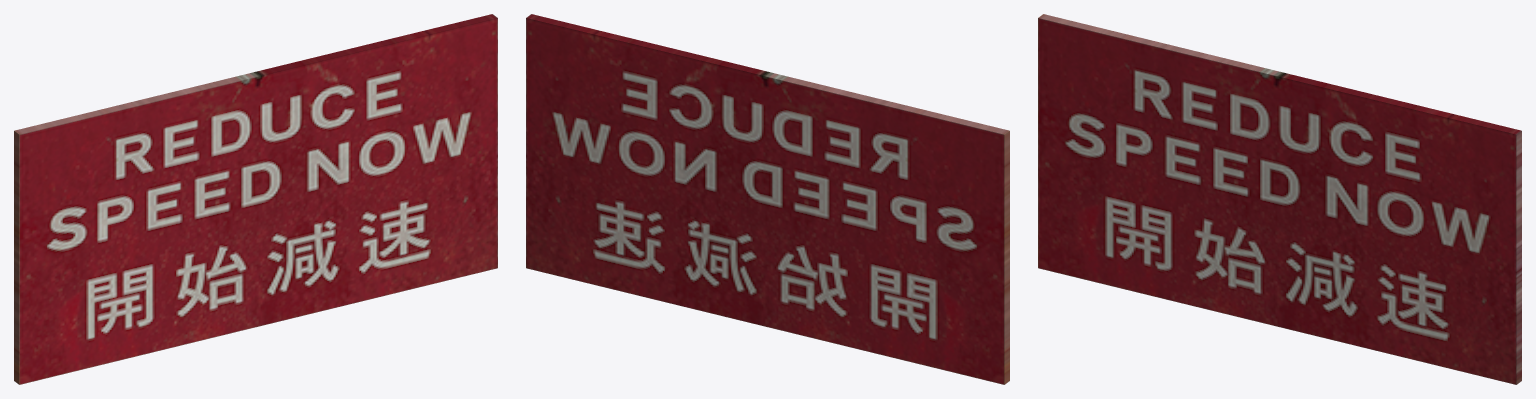
File: CT_Signs_25.fbx
3 renders of one model, left to right at view 1: azimuth 30°, elevation 25°; view 2: azimuth 150°, elevation 25°; view 3: azimuth 330°, elevation 25°, orthographic.
Parts seen in each view (by area): view 1: CT_Signs_25; view 2: CT_Signs_25; view 3: CT_Signs_25.
Part boxes in pixels (box(x1,y1,x2,y2)): CT_Signs_25: box(14, 14, 497, 384); CT_Signs_25: box(526, 14, 1009, 384); CT_Signs_25: box(1038, 14, 1521, 384).
Size of the model in its own units: 128 by 64 by 2.5.
